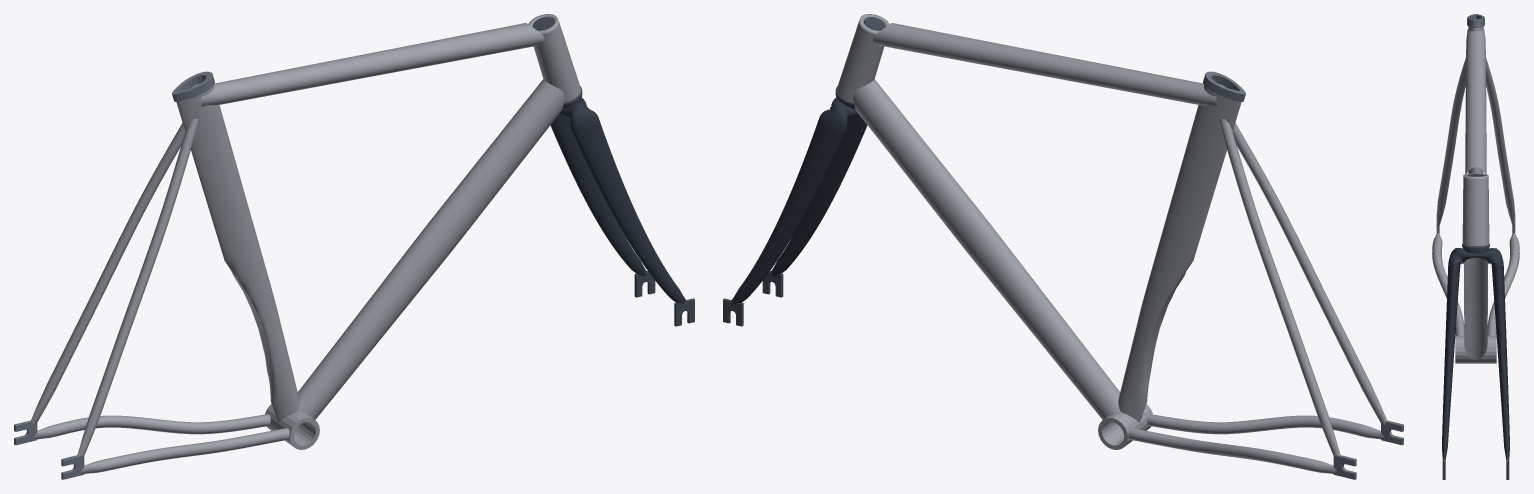
The model's file is cinelli-vigorelli-rainbow-s.glb.
The picture shows the model from 3 angles, left to right: view 1: azimuth 30°, elevation 25°; view 2: azimuth 150°, elevation 25°; view 3: azimuth 270°, elevation 25°; orthographic projection. The views are drawn at different scales.
Visible parts, largest first — view 1: paint_down, paint_seat, paint_top, fork_blade_1, paint_seatstay_1, paint_seatstay_-1, fork_blade_-1, paint_chainstay_-1, paint_chainstay_1, paint_head, paint_bottom_bracket, seat_collar (+1 smaller); view 2: paint_down, paint_seat, paint_top, fork_blade_-1, paint_seatstay_-1, paint_seatstay_1, fork_blade_1, paint_chainstay_1, paint_chainstay_-1, paint_head, paint_bottom_bracket, seat_collar (+1 smaller); view 3: paint_top, paint_down, paint_head, fork_blade_1, fork_blade_-1, paint_seatstay_-1, paint_seatstay_1, paint_chainstay_1, paint_chainstay_-1, paint_bottom_bracket, fork_crown, seat_collar (+2 smaller).
Part boxes in pixels (<box>): paint_down: <box>297,79,564,419</box>; paint_seat: <box>176,85,299,422</box>; paint_top: <box>201,23,544,106</box>; fork_blade_1: <box>573,119,686,304</box>; paint_seatstay_1: <box>77,118,197,455</box>; paint_seatstay_-1: <box>30,123,185,425</box>; fork_blade_-1: <box>550,113,646,276</box>; paint_chainstay_-1: <box>34,414,270,439</box>; paint_chainstay_1: <box>81,428,289,473</box>; paint_head: <box>528,14,580,102</box>; paint_bottom_bracket: <box>265,404,319,449</box>; seat_collar: <box>172,71,214,101</box>; paint_down: <box>853,79,1120,419</box>; paint_seat: <box>1118,85,1241,422</box>; paint_top: <box>873,23,1216,106</box>; fork_blade_-1: <box>731,119,844,304</box>; paint_seatstay_-1: <box>1220,118,1340,455</box>; paint_seatstay_1: <box>1232,123,1387,425</box>; fork_blade_1: <box>771,113,867,276</box>; paint_chainstay_1: <box>1147,414,1383,439</box>; paint_chainstay_-1: <box>1128,428,1336,473</box>; paint_head: <box>837,14,889,102</box>; paint_bottom_bracket: <box>1098,404,1152,449</box>; seat_collar: <box>1203,71,1245,101</box>; paint_top: <box>1465,29,1486,174</box>; paint_down: <box>1464,258,1487,359</box>; paint_head: <box>1462,173,1489,245</box>; fork_blade_1: <box>1442,266,1460,459</box>; fork_blade_-1: <box>1491,266,1509,459</box>; paint_seatstay_-1: <box>1486,58,1515,226</box>; paint_seatstay_1: <box>1436,58,1465,226</box>; paint_chainstay_1: <box>1432,233,1464,335</box>; paint_chainstay_-1: <box>1487,233,1519,335</box>; paint_bottom_bracket: <box>1455,336,1496,363</box>; fork_crown: <box>1448,248,1503,267</box>; seat_collar: <box>1467,14,1484,27</box>.
Bounding box in the file's own units: 0.973 × 0.5665 × 0.1448.
